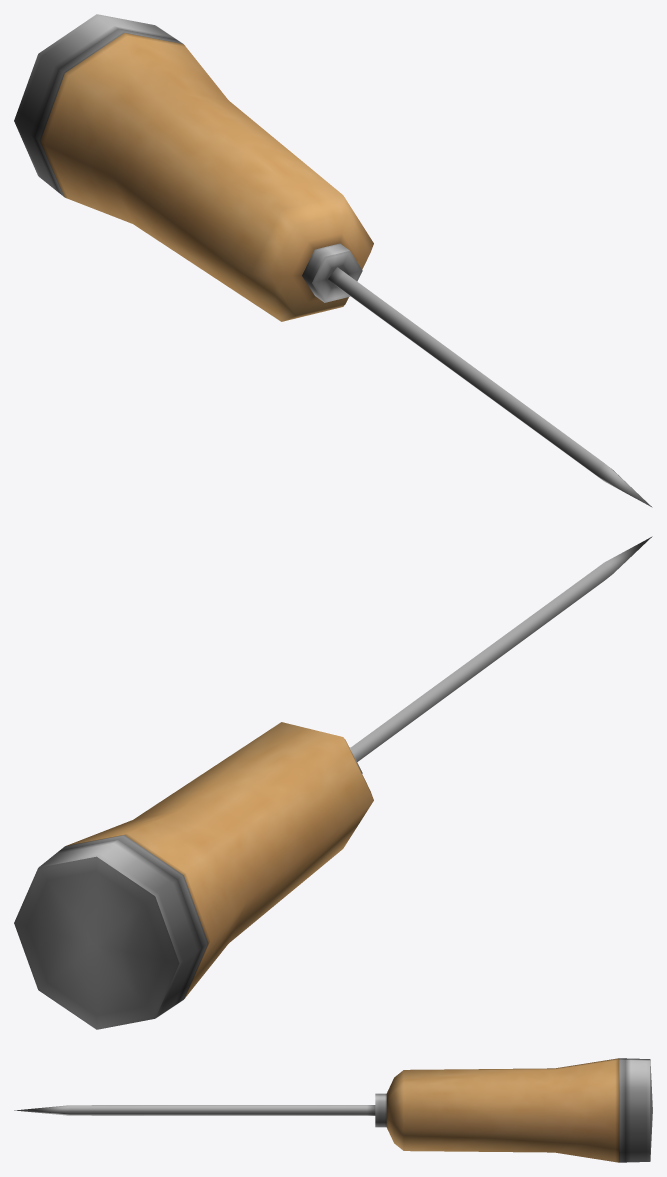
The model's file is jsf_IcePick.fbx.
The picture shows the model from 3 angles, top to bottom: view 1: azimuth 30°, elevation 25°; view 2: azimuth 150°, elevation 25°; view 3: azimuth 270°, elevation 25°; orthographic projection. The views are drawn at different scales.
Parts seen in each view (by area): view 1: jsf_IcePick; view 2: jsf_IcePick; view 3: jsf_IcePick.
Boxes of the visible parts, box(x1,y1,x2,y2) form: jsf_IcePick: box(14, 14, 652, 507); jsf_IcePick: box(14, 536, 652, 1029); jsf_IcePick: box(14, 1058, 652, 1162).
Size of the model in its own units: 4 by 4 by 23.
